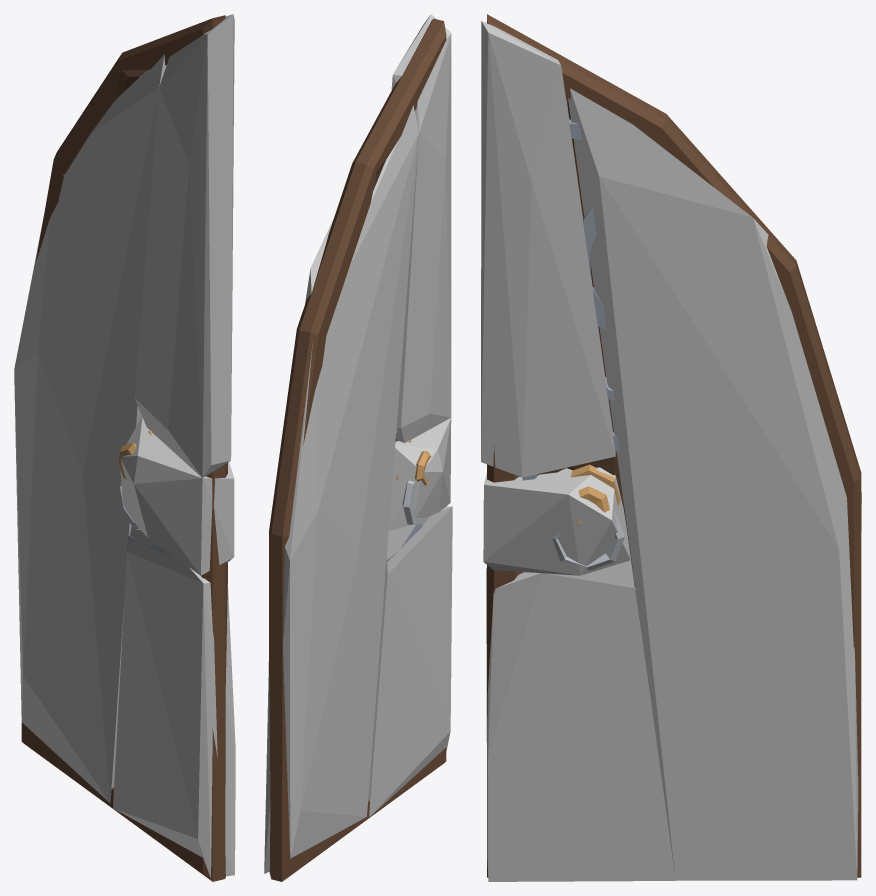
The model's file is SM_Bld_Double_Door_Left_03.fbx.
3 renders of one model, left to right at view 1: azimuth 30°, elevation 25°; view 2: azimuth 150°, elevation 25°; view 3: azimuth 270°, elevation 25°, orthographic. The views are drawn at different scales.
Visible parts, largest first — view 1: SM_Bld_Double_Door_Left_03_ConvexHulls, SM_Bld_Double_Door_Left_03; view 2: SM_Bld_Double_Door_Left_03_ConvexHulls, SM_Bld_Double_Door_Left_03; view 3: SM_Bld_Double_Door_Left_03_ConvexHulls, SM_Bld_Double_Door_Left_03.
Boxes of the visible parts, x1,y1,x2,y2 form: SM_Bld_Double_Door_Left_03_ConvexHulls: (14, 14, 235, 877); SM_Bld_Double_Door_Left_03: (21, 15, 227, 881); SM_Bld_Double_Door_Left_03_ConvexHulls: (264, 14, 452, 873); SM_Bld_Double_Door_Left_03: (269, 18, 446, 881); SM_Bld_Double_Door_Left_03_ConvexHulls: (481, 21, 861, 881); SM_Bld_Double_Door_Left_03: (487, 14, 861, 877).
Bounding box in the file's own units: 27.89 × 105 × 260.
Materials: 2 (1 with a texture image).
